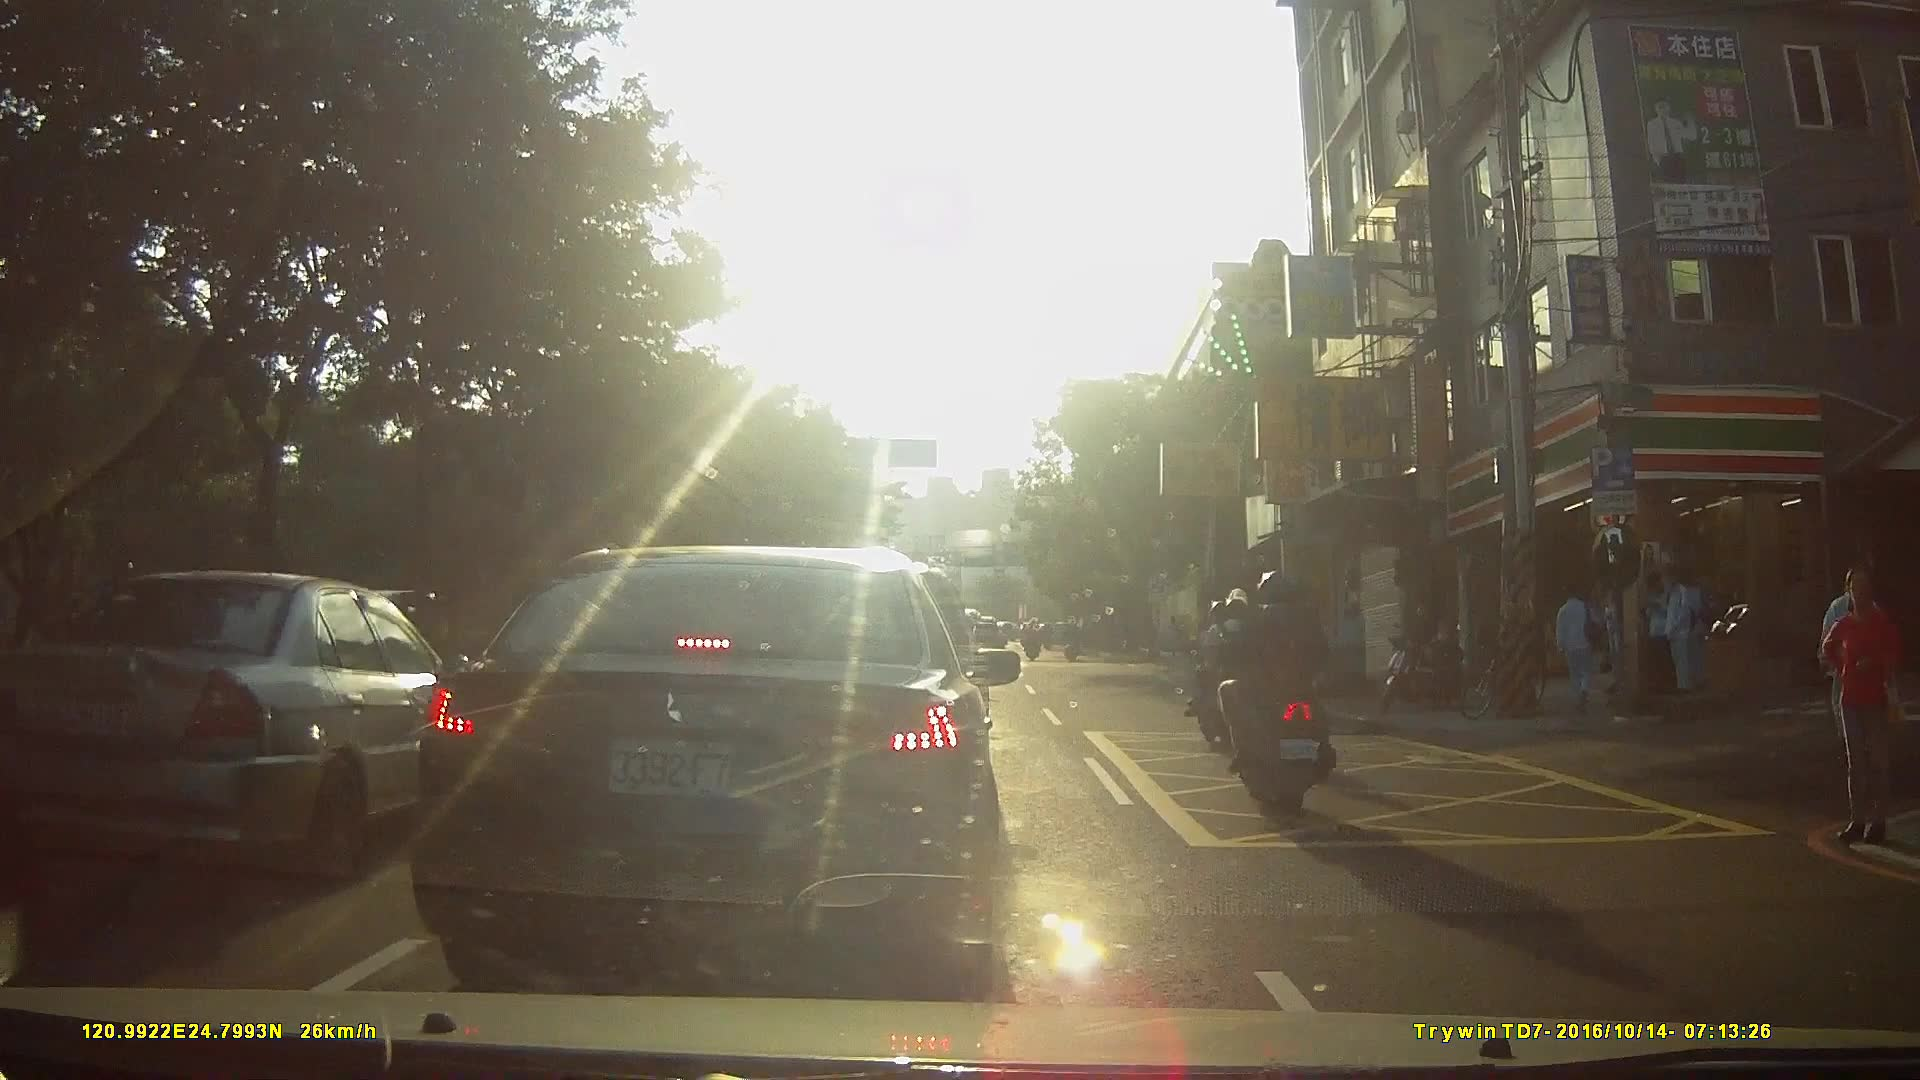pedestrian: (1820, 567, 1911, 852), (1817, 577, 1874, 774), (1553, 579, 1606, 715), (1655, 568, 1696, 698), (1640, 569, 1679, 704), (1675, 563, 1710, 695), (1604, 577, 1633, 709)
rider: (1218, 571, 1351, 812), (1183, 587, 1275, 748), (1062, 617, 1084, 664), (1023, 615, 1045, 665)
vehicle: (402, 538, 1038, 984), (55, 560, 487, 874)
